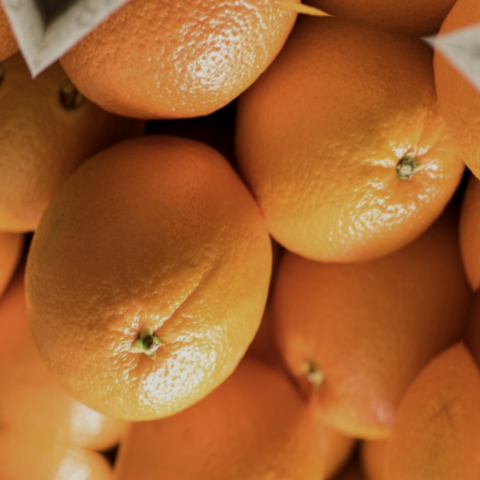orange: (0, 96, 316, 475), (188, 0, 480, 321)
